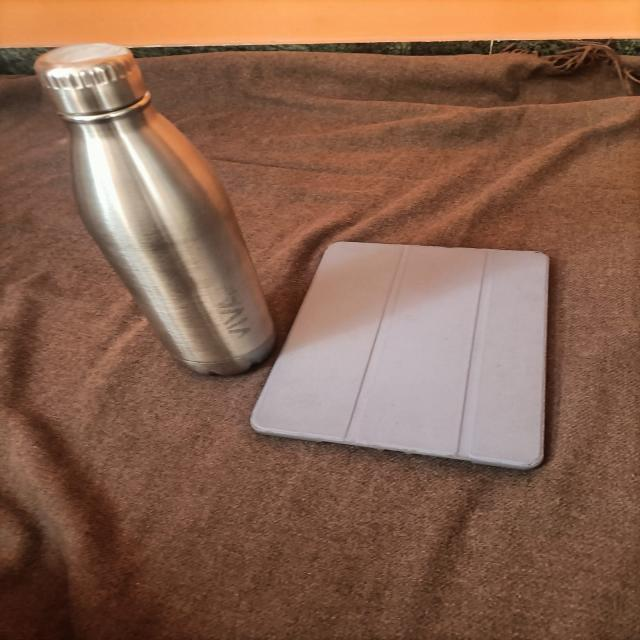bottle: (33, 58, 284, 404)
tablet: (242, 211, 568, 491)
